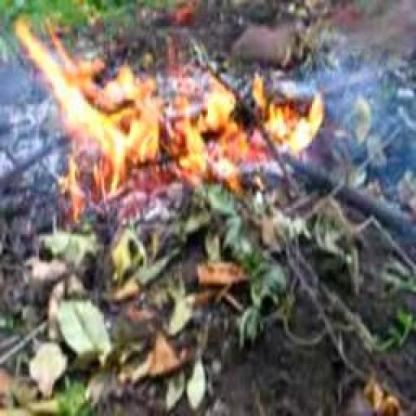fire: (16, 12, 327, 230)
